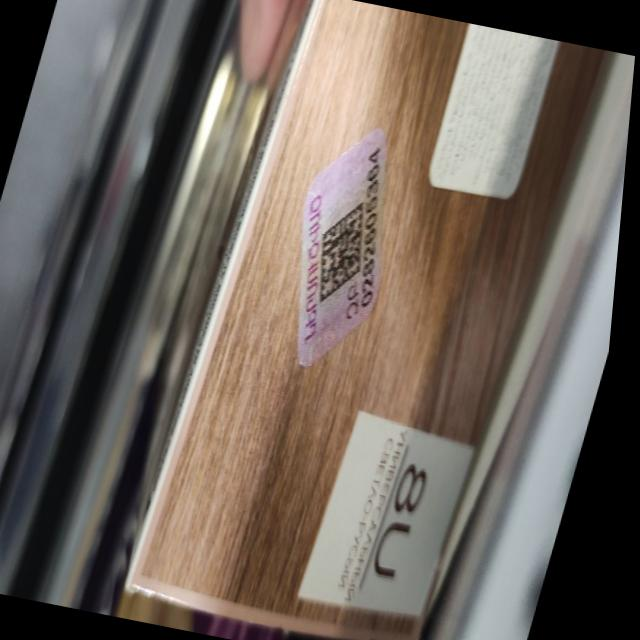datamatrix: (308, 196, 386, 313)
